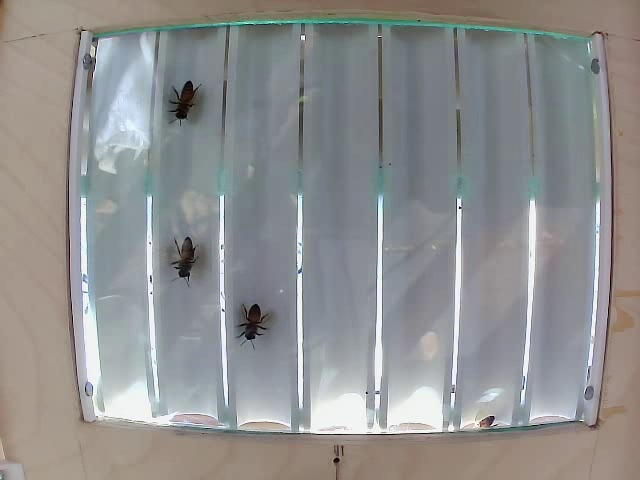bee: (169, 78, 203, 126), (240, 302, 272, 350), (168, 235, 198, 286)
